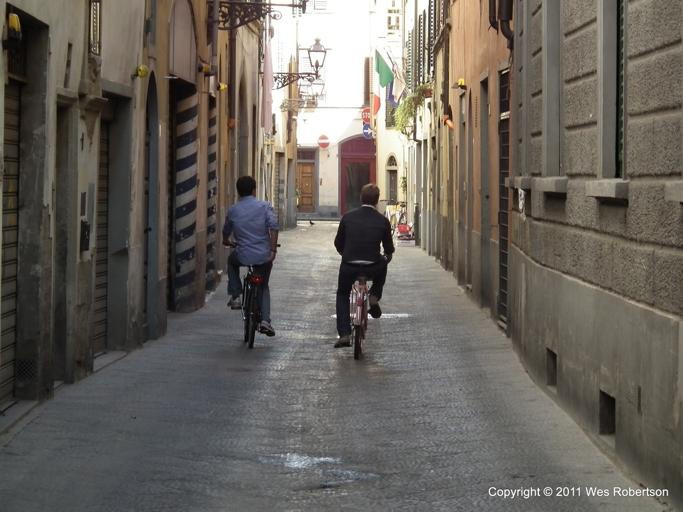non-vehicle: (226, 242, 281, 347), (338, 273, 378, 358)
